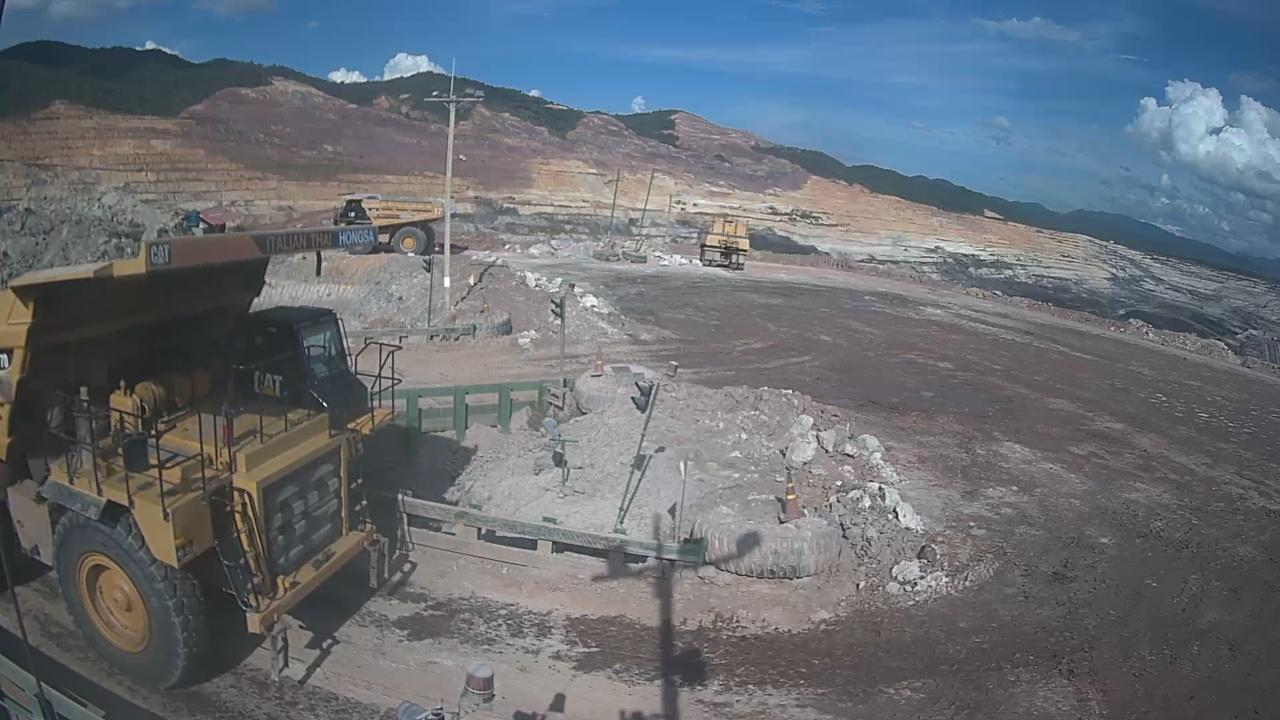front_number: (261, 460, 340, 567)
mining_truck: (0, 166, 390, 702), (327, 183, 461, 261)
